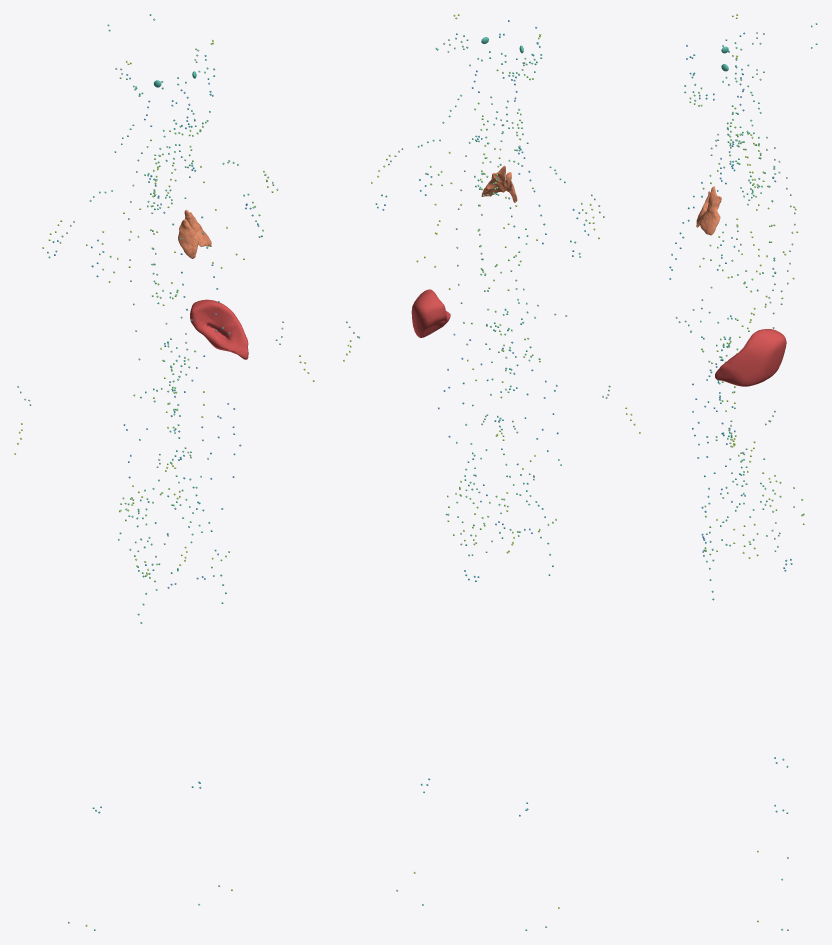
File: lymphoid.glb
The picture shows the model from 3 angles, left to right: view 1: azimuth 30°, elevation 25°; view 2: azimuth 150°, elevation 25°; view 3: azimuth 270°, elevation 25°; orthographic projection.
Parts seen in each view (by area): view 1: Spleen; view 2: Spleen; view 3: Spleen, Left lobe of thymus.
Boxes of the visible parts, x1,y1,x2,y2 form: Spleen: [190, 299, 248, 359]; Spleen: [411, 289, 450, 337]; Spleen: [715, 329, 786, 386]; Left lobe of thymus: [699, 186, 721, 235].
Size of the model in its own units: 0.4523 by 1.28 by 0.1963.
